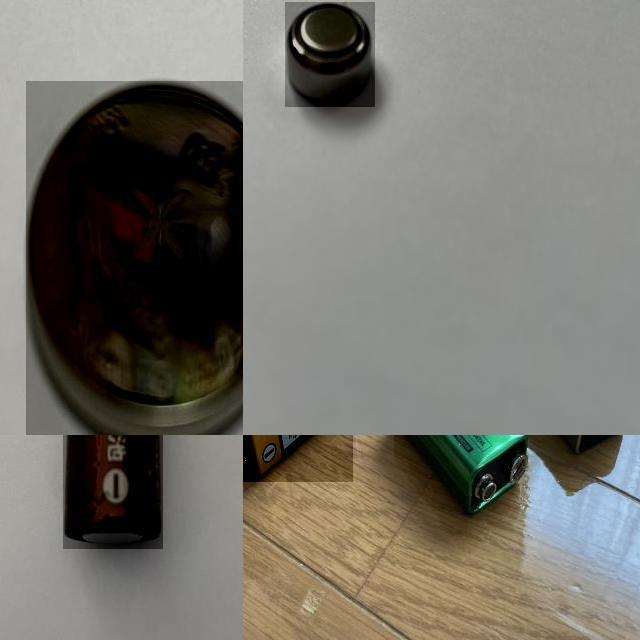9V: (391, 435, 528, 514), (243, 435, 353, 482)
